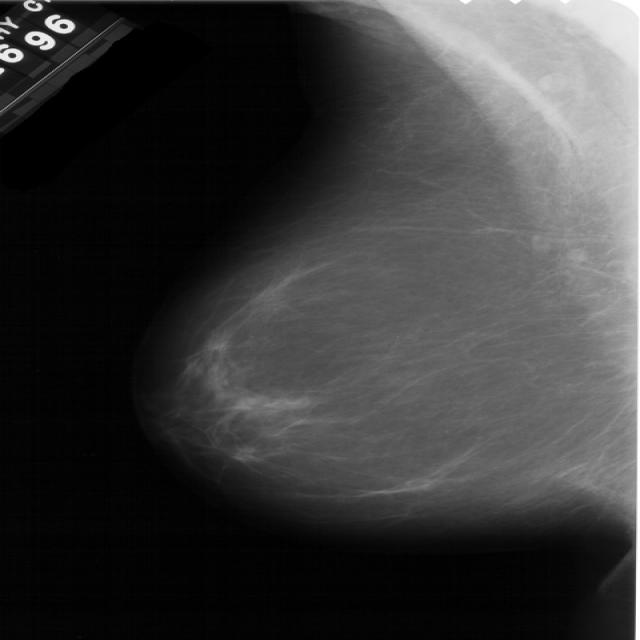tumour: (403, 475, 432, 490)
